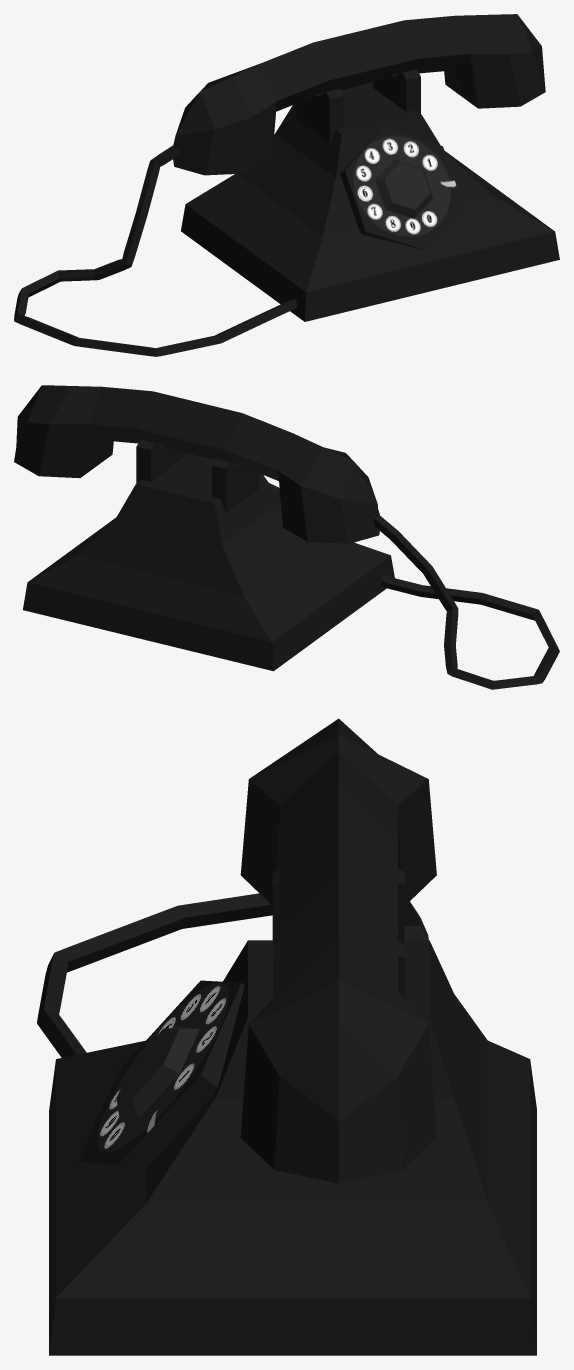
File: Low_Poly_Phone.glb
3 renders of one model, top to bottom at view 1: azimuth 30°, elevation 25°; view 2: azimuth 150°, elevation 25°; view 3: azimuth 270°, elevation 25°, orthographic. The views are drawn at different scales.
Visible parts, largest first — view 1: Plane_0, Cube_0, Plane.001_0; view 2: Plane_0, Cube_0, Plane.001_0; view 3: Plane_0, Cube_0, Plane.001_0.
Part boxes in pixels (x1,y1,x2,y2): Plane_0: (181,69,559,321); Cube_0: (173,14,545,175); Plane.001_0: (14,144,296,356); Plane_0: (23,440,394,671); Cube_0: (14,385,379,543); Plane.001_0: (373,514,559,689); Plane_0: (49,869,536,1355); Cube_0: (240,718,436,1183); Plane.001_0: (37,893,428,1057).
Size of the model in its own units: 4.17 by 1.55 by 1.73.
1 material, 1 textured.
